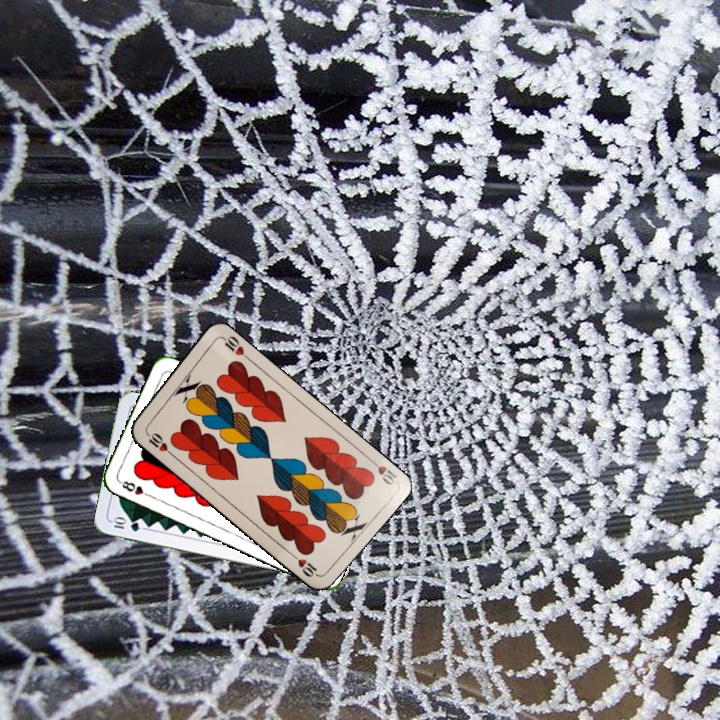G10: (108, 514, 142, 534)
H10: (365, 454, 399, 488), (141, 427, 175, 458)
H8: (115, 477, 154, 500)
